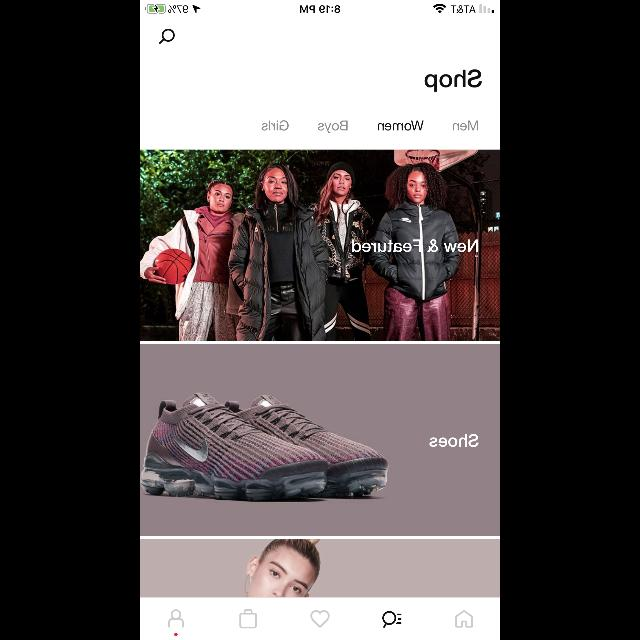icon: (310, 610, 330, 628), (382, 610, 402, 628), (168, 609, 184, 627), (240, 610, 256, 628), (456, 610, 472, 628), (159, 30, 175, 44)
image: (140, 344, 500, 536), (140, 150, 500, 340), (140, 539, 500, 597)
text: (352, 240, 478, 252), (424, 70, 482, 92), (429, 434, 478, 446), (377, 121, 423, 131), (318, 120, 348, 134), (262, 120, 288, 132), (452, 121, 478, 131)
uppertaskbar: (140, 0, 500, 14)
